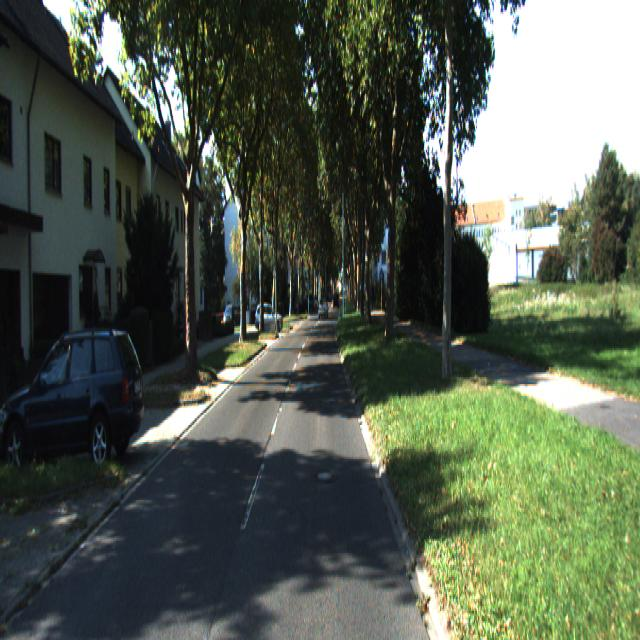Car: (0, 319, 149, 475), (254, 305, 284, 334)
DontCare: (297, 292, 327, 318), (221, 299, 235, 325), (332, 292, 340, 310)
